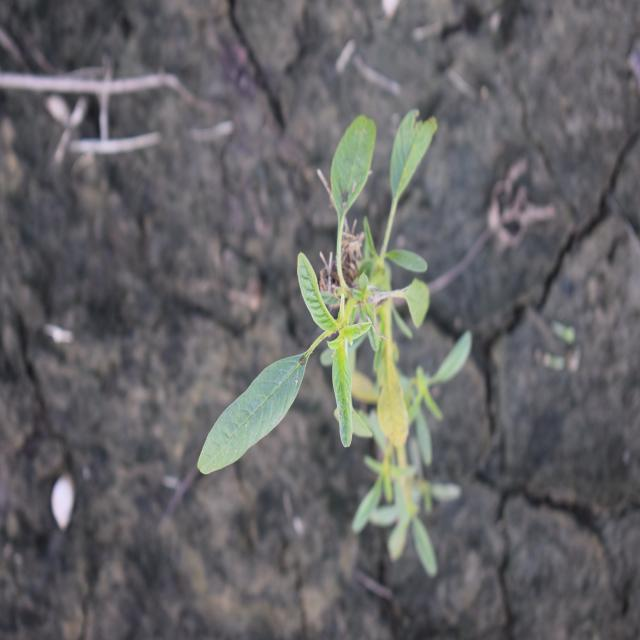Waterhemp: (195, 107, 475, 580)
